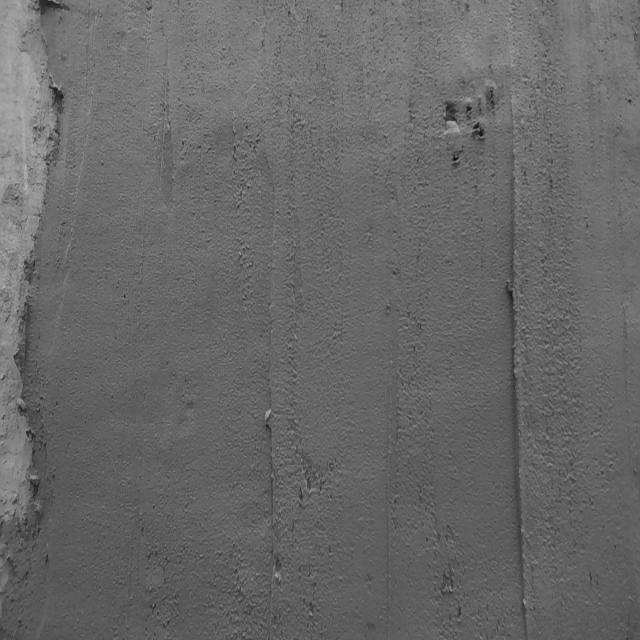trowels marks: (506, 88, 529, 634), (263, 355, 284, 588)
